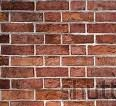brick: (10, 32, 44, 44), (1, 88, 34, 100), (10, 10, 43, 21), (1, 22, 35, 32), (36, 22, 69, 32), (1, 45, 34, 55), (36, 45, 69, 55), (61, 56, 94, 66), (1, 67, 34, 77), (35, 89, 68, 99), (62, 11, 94, 21), (11, 78, 43, 88), (87, 22, 116, 33), (1, 1, 35, 10), (35, 67, 68, 76), (61, 78, 94, 87), (87, 45, 116, 55), (37, 1, 69, 10), (10, 56, 42, 65), (63, 35, 94, 44), (94, 10, 116, 22), (87, 1, 115, 10), (88, 68, 116, 77), (95, 56, 116, 67), (44, 32, 61, 44), (95, 78, 115, 88), (44, 11, 62, 21), (96, 35, 116, 44), (70, 88, 86, 99), (43, 78, 60, 88), (69, 23, 87, 32), (44, 56, 60, 66), (70, 1, 86, 10), (71, 45, 86, 54), (70, 68, 85, 76), (1, 32, 10, 43), (1, 10, 10, 20), (1, 56, 10, 65), (1, 79, 10, 88)
